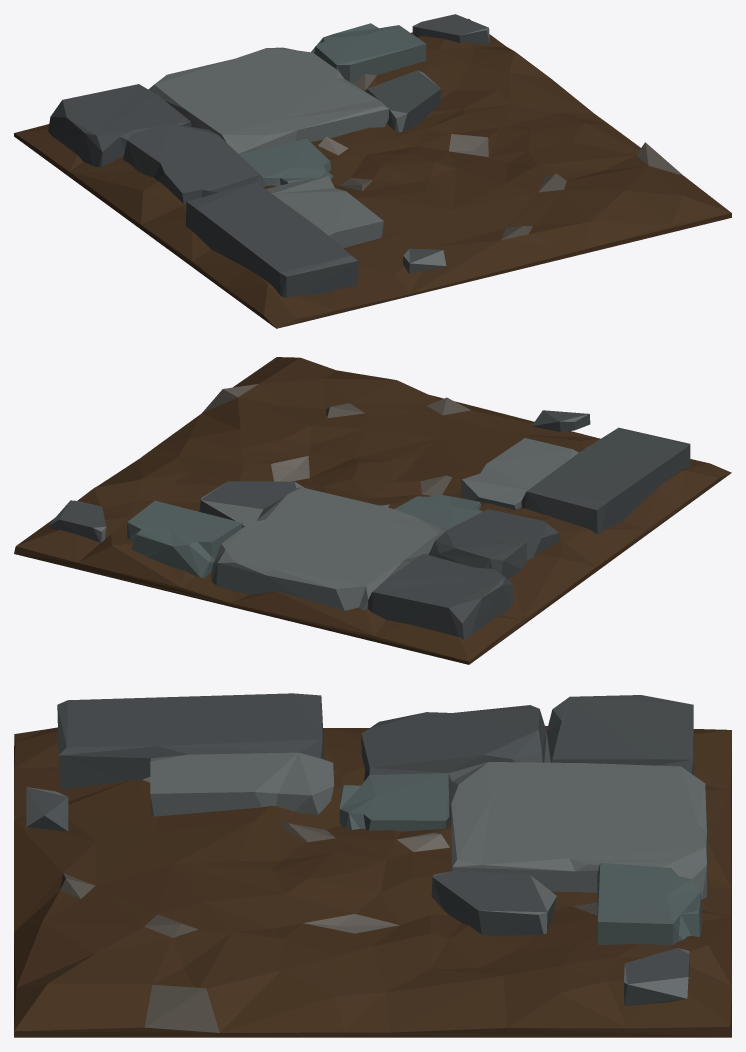
The model's file is MDungeon_SoilGroundTile_Stone_03.FBX.
3 views of the same model, one above another, from view 1: azimuth 30°, elevation 25°; view 2: azimuth 150°, elevation 25°; view 3: azimuth 270°, elevation 25° (orthographic). The views are drawn at different scales.
Visible parts, largest first — view 1: MDungeon_SoilGroundTile_Stone_03_LOD0; view 2: MDungeon_SoilGroundTile_Stone_03_LOD0; view 3: MDungeon_SoilGroundTile_Stone_03_LOD0.
Part boxes in pixels (x1,y1,x2,y2): MDungeon_SoilGroundTile_Stone_03_LOD0: (14, 14, 731, 328); MDungeon_SoilGroundTile_Stone_03_LOD0: (14, 357, 731, 664); MDungeon_SoilGroundTile_Stone_03_LOD0: (14, 693, 731, 1037).
Size of what is drawn, in the model's own units: 6.27 by 0.616 by 6.27.
